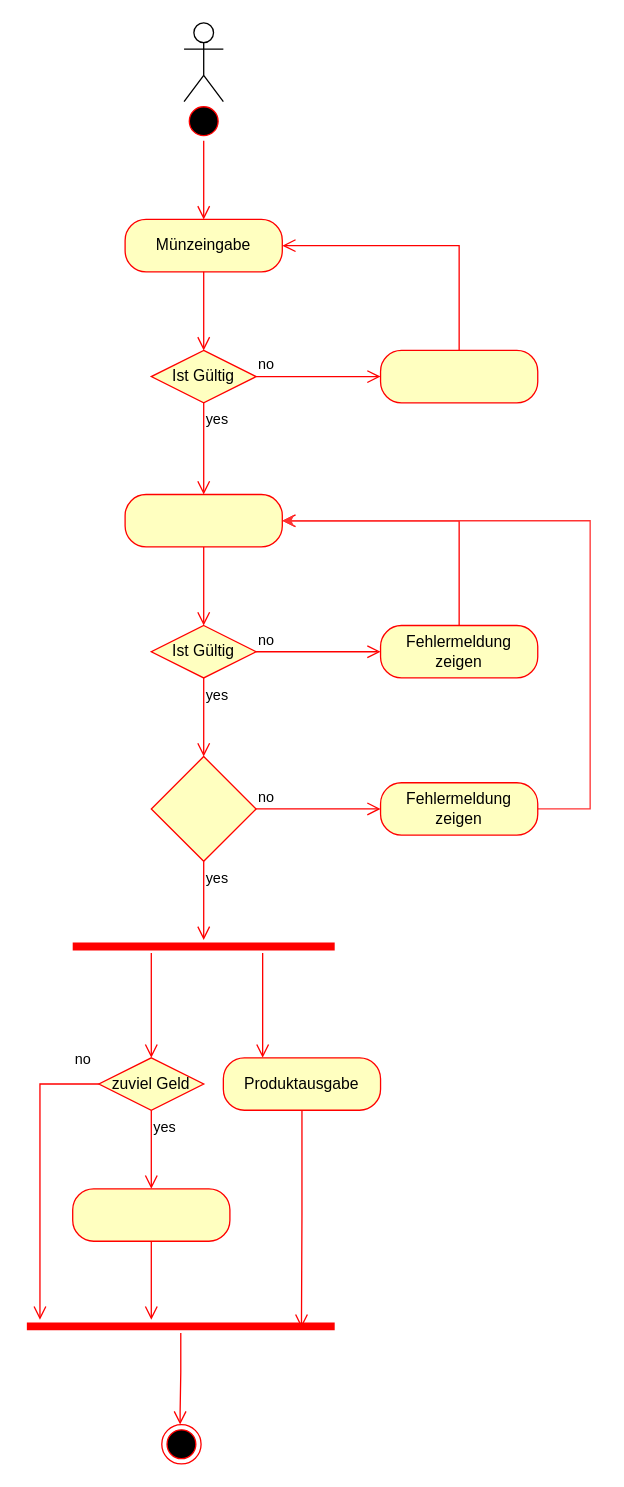
Image size: 624x1487. Some labels were removed from this diagram. Here are the shapes that lost their labels. From the top down, the centre of each, then its label:
(458,376): Geldausgabe
(203,520): Tastenwahl
(203,808): Genügend Geld
(150,1214): Rückgeldausgabe
